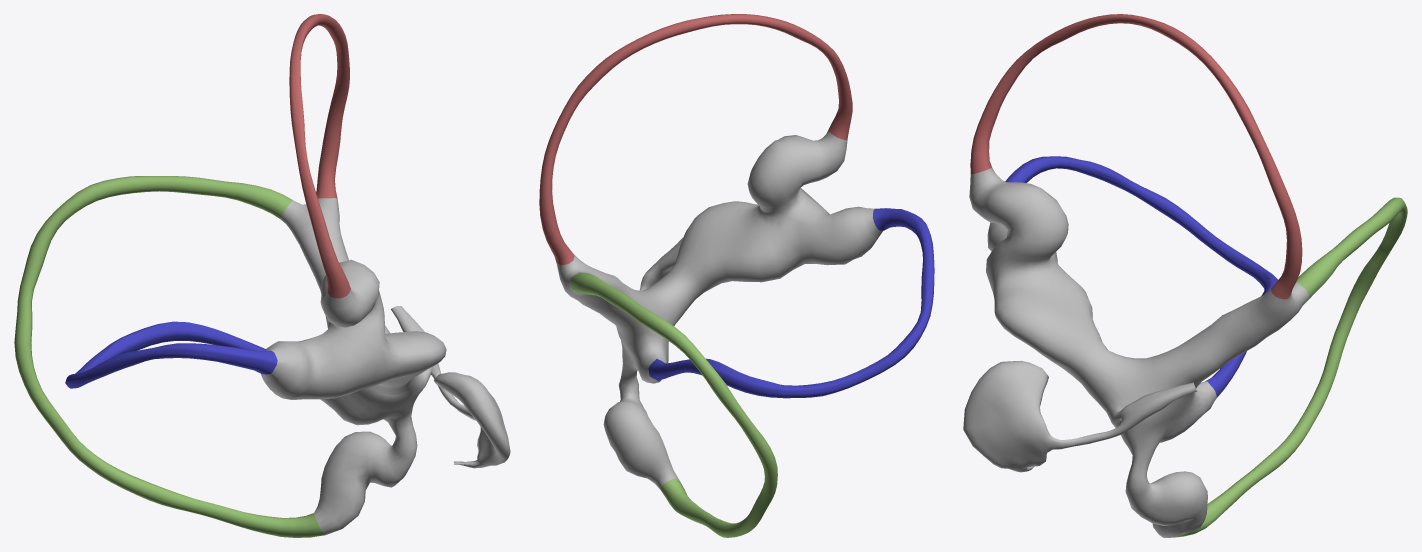
The model's file is endolymph.glb.
3 renders of one model, left to right at view 1: azimuth 30°, elevation 25°; view 2: azimuth 150°, elevation 25°; view 3: azimuth 270°, elevation 25°, orthographic. The views are drawn at different scales.
Visible parts, largest first — view 1: SCC_endolymph; view 2: SCC_endolymph; view 3: SCC_endolymph.
Part boxes in pixels (x1,y1,x2,y2): SCC_endolymph: (14,14,510,537); SCC_endolymph: (539,14,934,537); SCC_endolymph: (963,14,1407,537).
Bounding box in the file's own units: 2.81 × 3.89 × 3.09.
